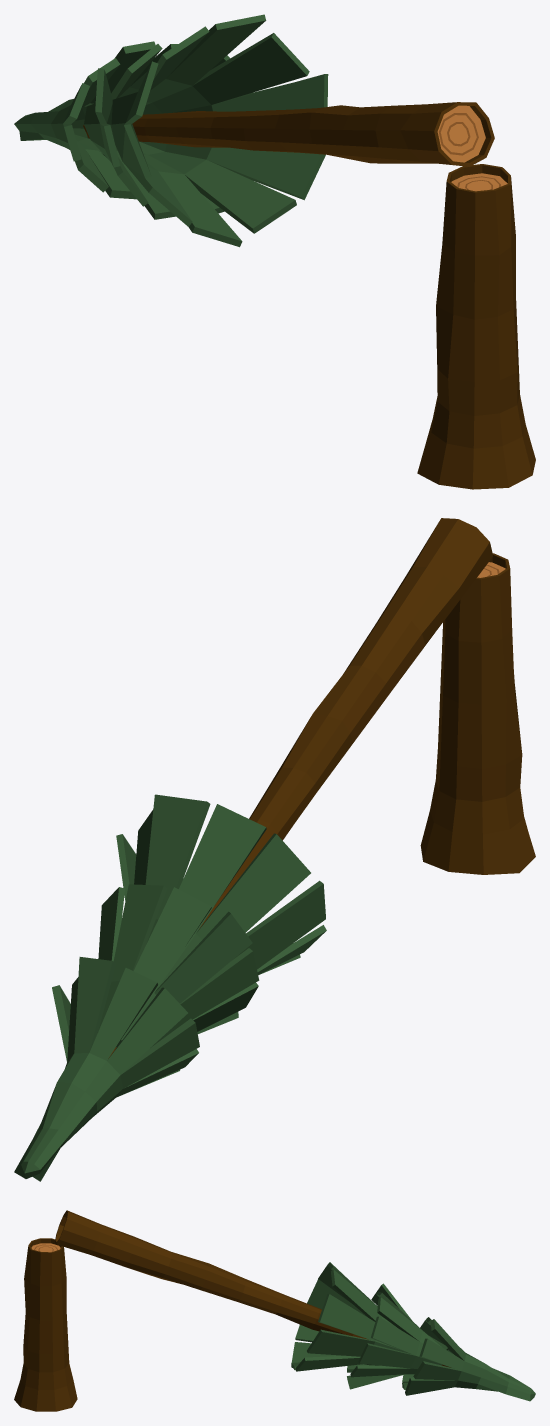
3 views of the same model, one above another, from view 1: azimuth 30°, elevation 25°; view 2: azimuth 150°, elevation 25°; view 3: azimuth 270°, elevation 25° (orthographic). The views are drawn at different scales.
Parts seen in each view (by area): view 1: Цилиндр.019; view 2: Цилиндр.019; view 3: Цилиндр.019.
Part boxes in pixels (left/top/right/bottom): Цилиндр.019: left=14, top=14, right=535, bottom=489; Цилиндр.019: left=14, top=518, right=535, bottom=1181; Цилиндр.019: left=14, top=1210, right=535, bottom=1411.
Bounding box in the file's own units: 6404 × 10413 × 26126.
